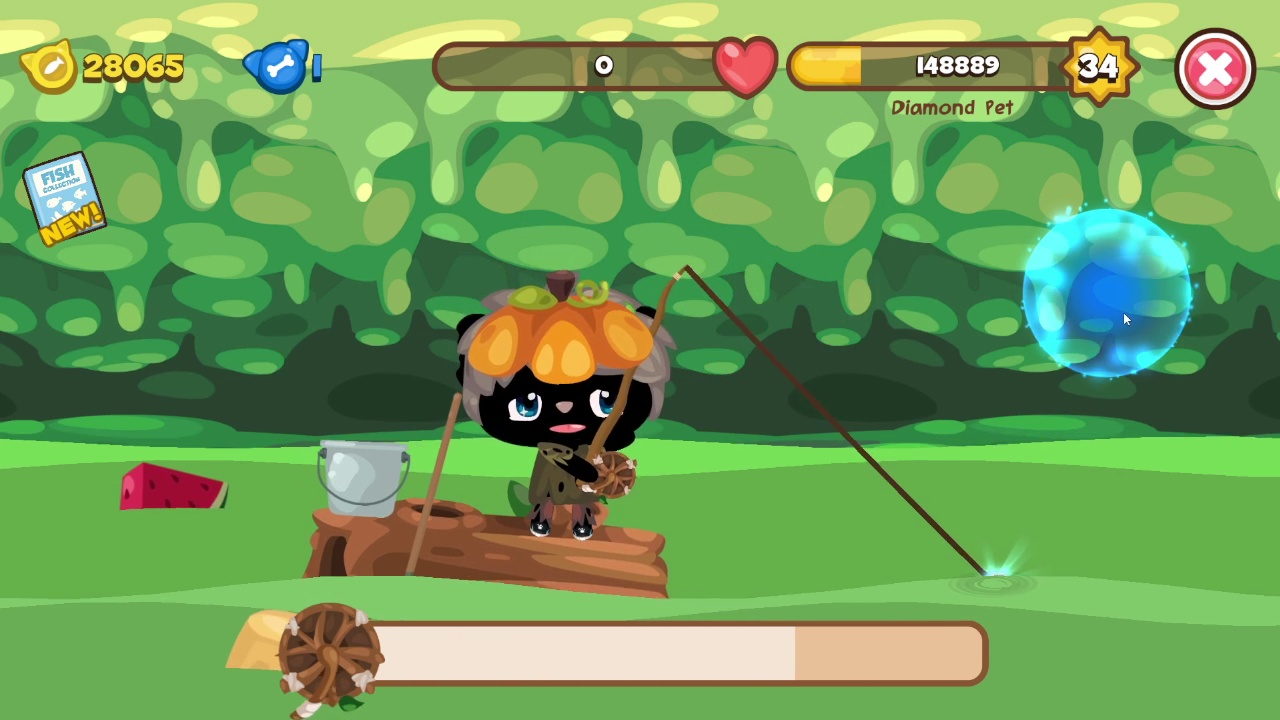point: (1020, 204, 1196, 382)
